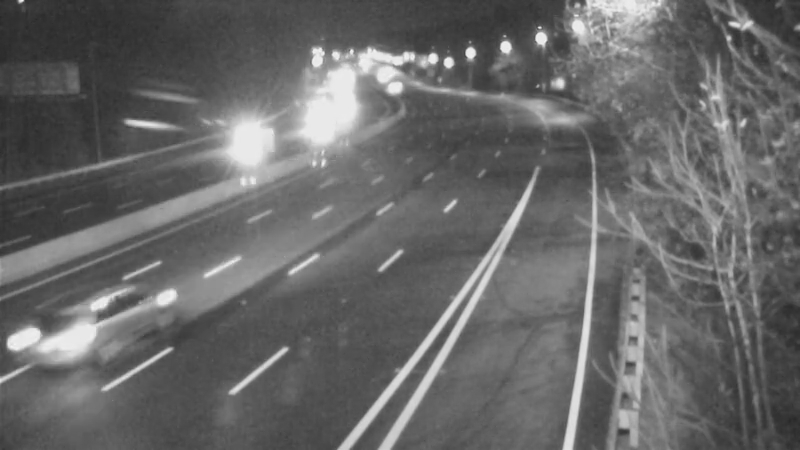vehicle: (1, 287, 111, 397), (215, 112, 265, 162), (295, 105, 345, 155)
